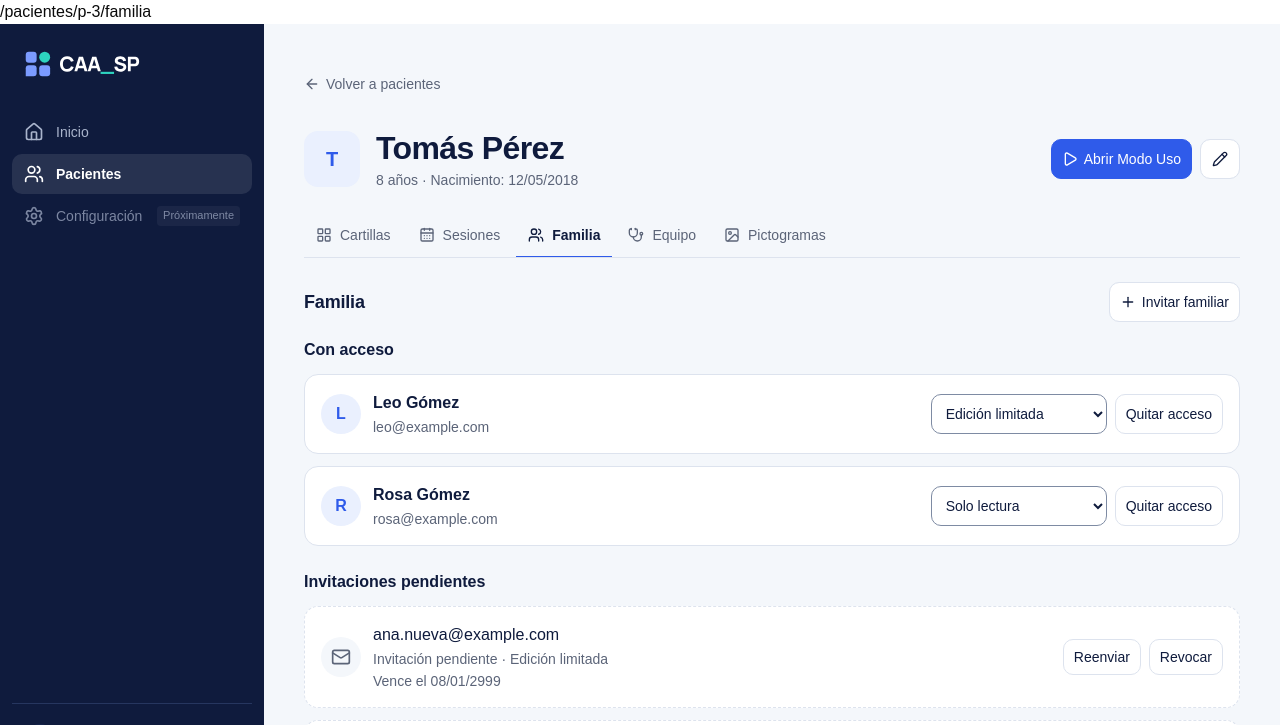
Test: CollaboratorsPage › invitations › revokes a pending invitation and refreshes the list
The width and height of the screenshot is (1280, 725).
Click the button with aria-label "Revocar invitación a ana.nueva@example.com" at point(1186, 657), box [1149, 639, 1223, 675]
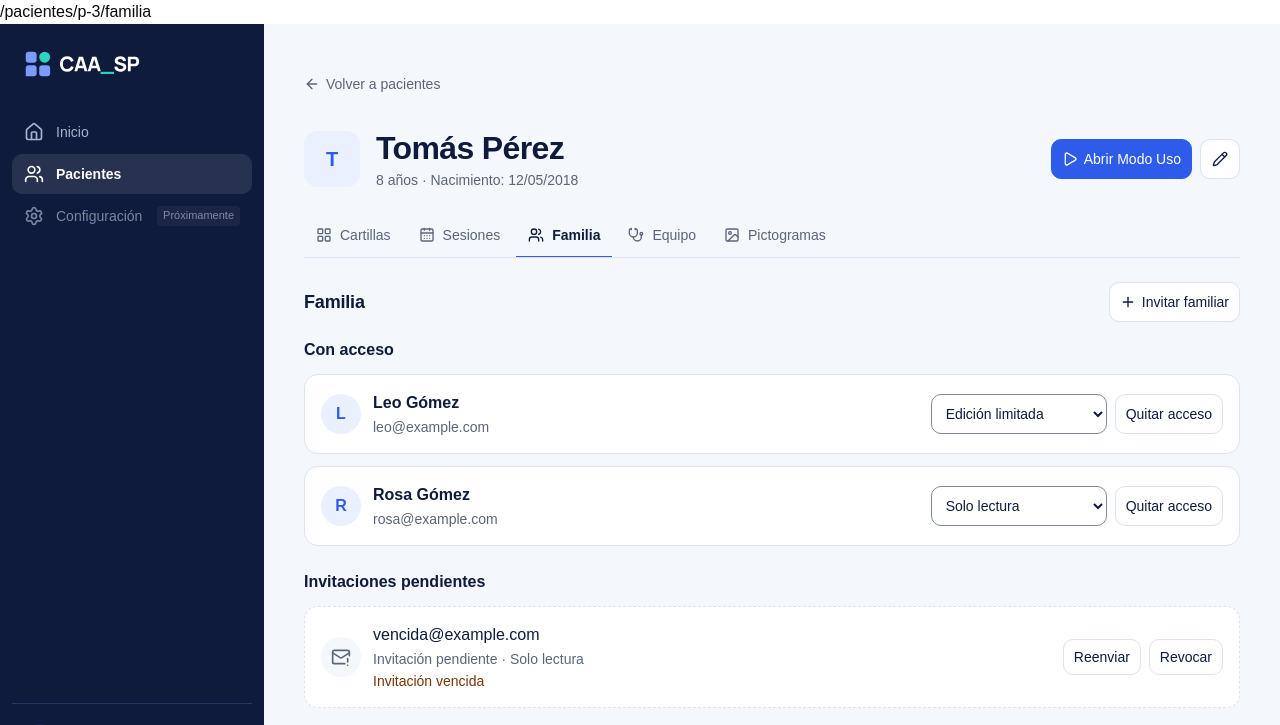
Expected: the text "ana.nueva@example.com" is gone
